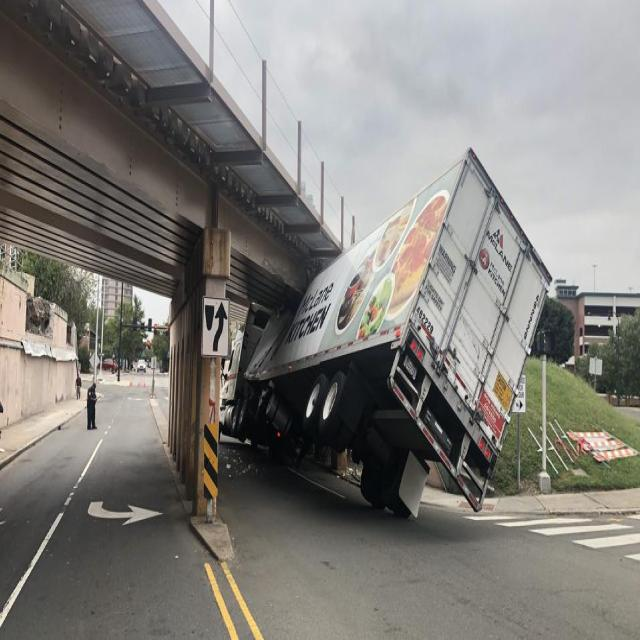accident: (220, 151, 549, 515)
car: (102, 358, 118, 373), (138, 360, 146, 371)
